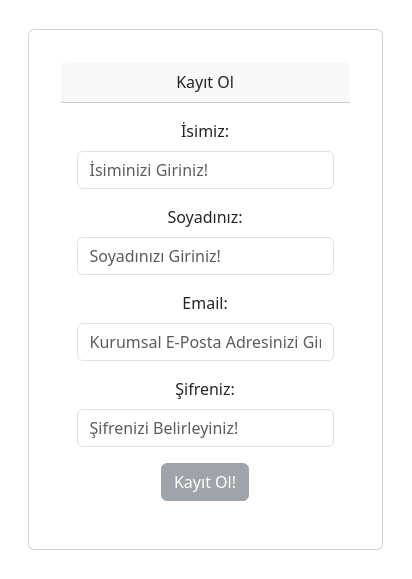
Register Page › Error Messages › Email input throws error for ndk@wit.
Type "ndk@wit." into the field with test id "email-input" at (206, 342), box [77,323,334,361]
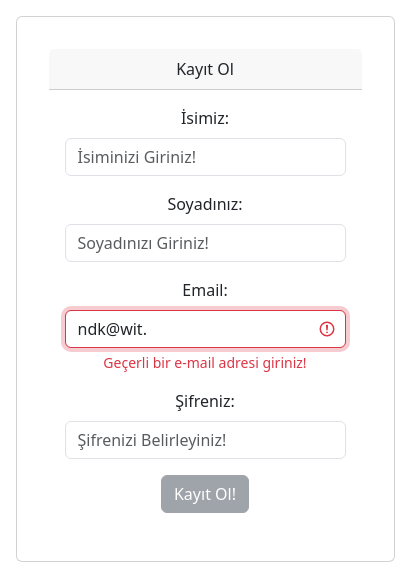
Check: the text "Geçerli bir e-mail adresi giriniz!" is shown, box [103,353,307,372]
